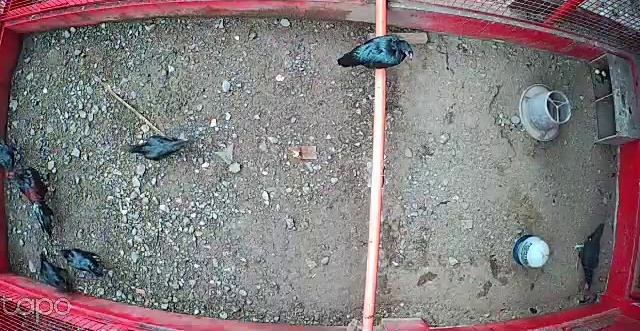Chicken: (335, 32, 418, 71), (573, 221, 608, 291), (53, 242, 106, 277), (127, 134, 192, 162), (34, 251, 75, 295)
Drinker: (514, 233, 552, 271)
Feeder: (516, 81, 572, 141)
Rooster: (6, 166, 66, 238)
